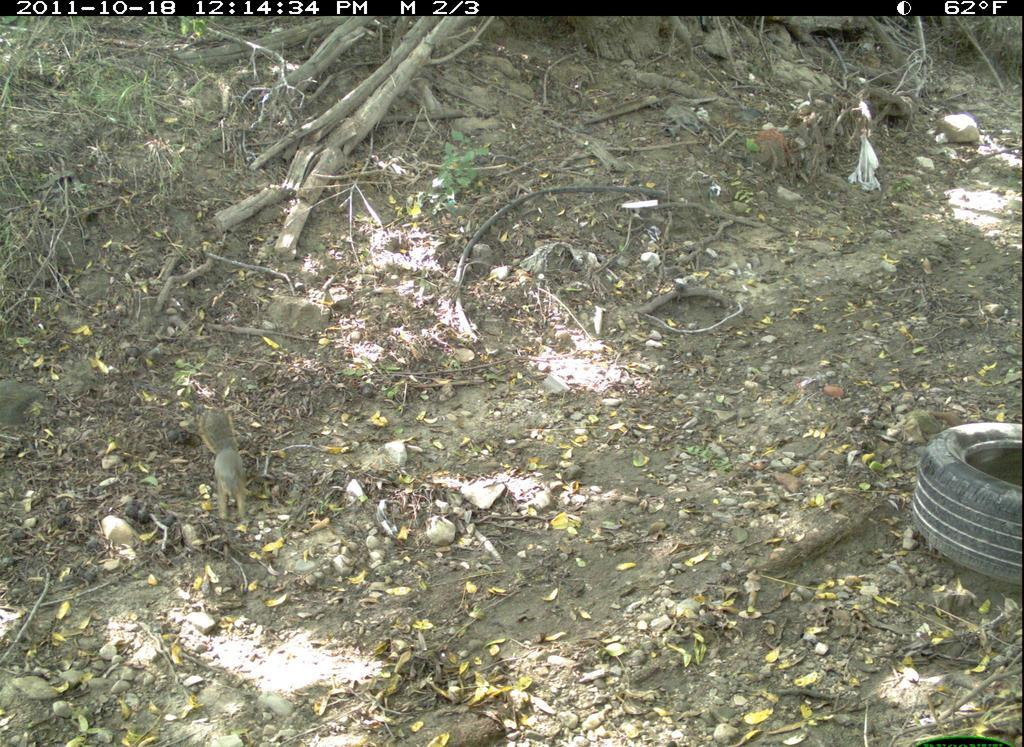squirrel: (190, 413, 271, 548)
